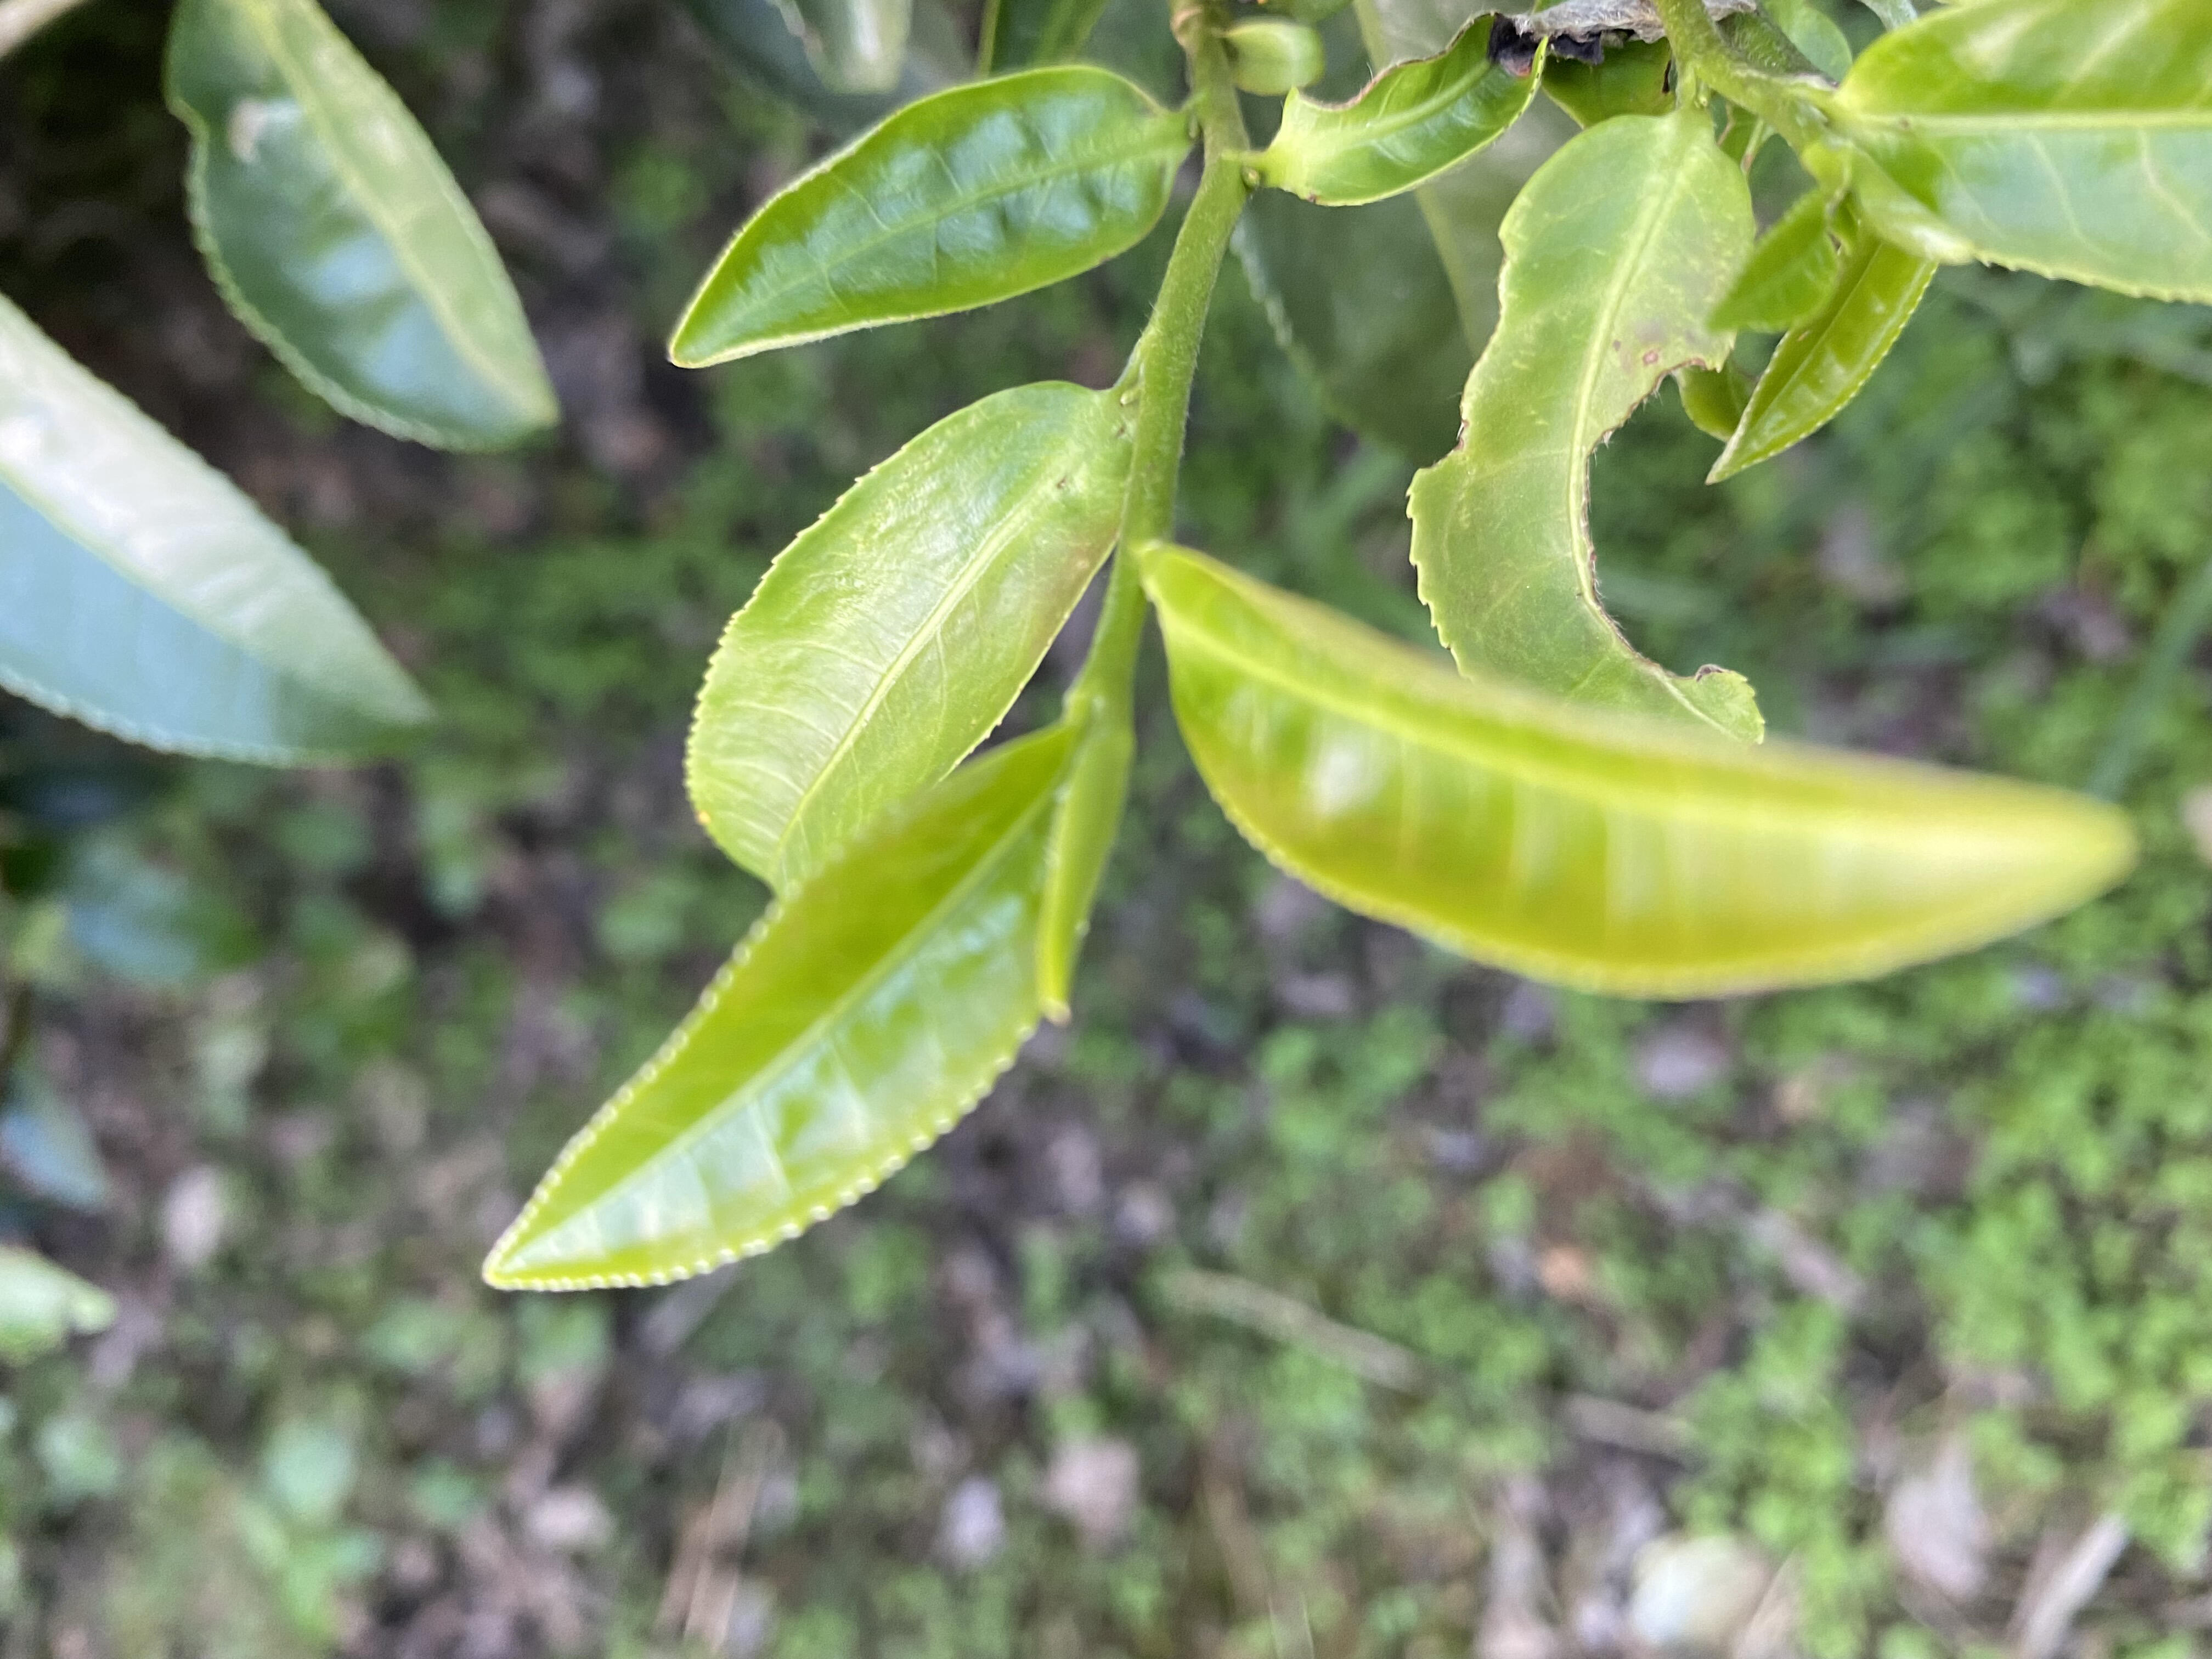chihuo_high: (1404, 110, 1771, 749)
healthy: (482, 725, 1103, 1298), (681, 375, 1129, 896), (665, 54, 1174, 369)
tanju_high: (1263, 2, 1667, 211)
tanju_low: (1139, 542, 2141, 1004)
